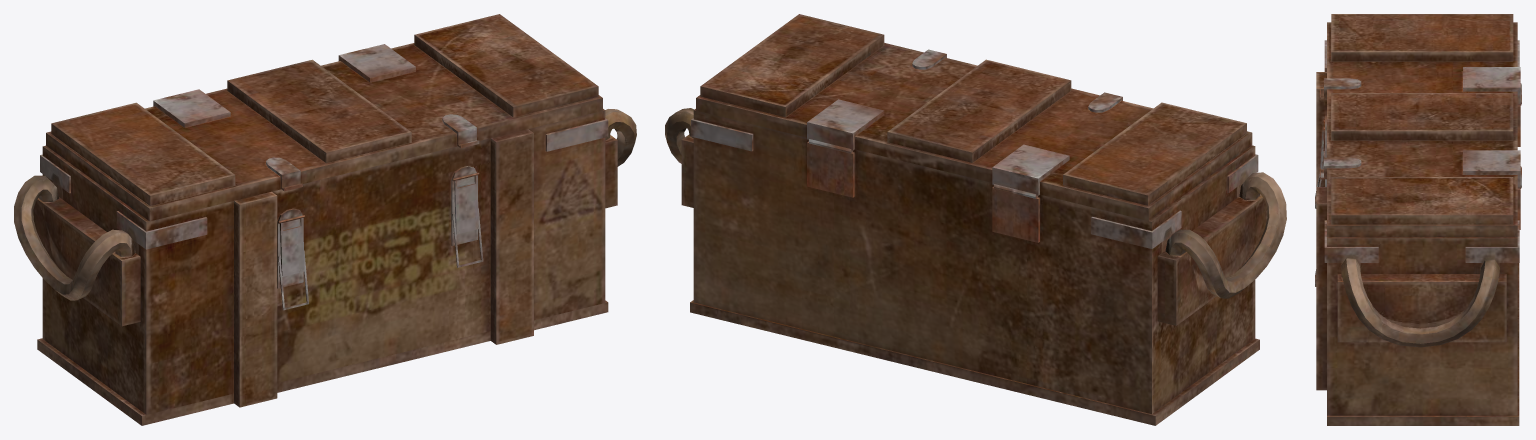
The model's file is old_ammo_crate.glb.
3 renders of one model, left to right at view 1: azimuth 30°, elevation 25°; view 2: azimuth 150°, elevation 25°; view 3: azimuth 270°, elevation 25°, orthographic. The views are drawn at different scales.
Visible parts, largest first — view 1: old_ammo_crate; view 2: old_ammo_crate; view 3: old_ammo_crate.
Part boxes in pixels (x1,y1,x2,y2): old_ammo_crate: [14, 14, 636, 425]; old_ammo_crate: [665, 14, 1286, 425]; old_ammo_crate: [1315, 14, 1521, 425].
Size of what is drawn, in the model's own units: 0.6 by 0.2325 by 0.2101.
1 material, 1 textured.
